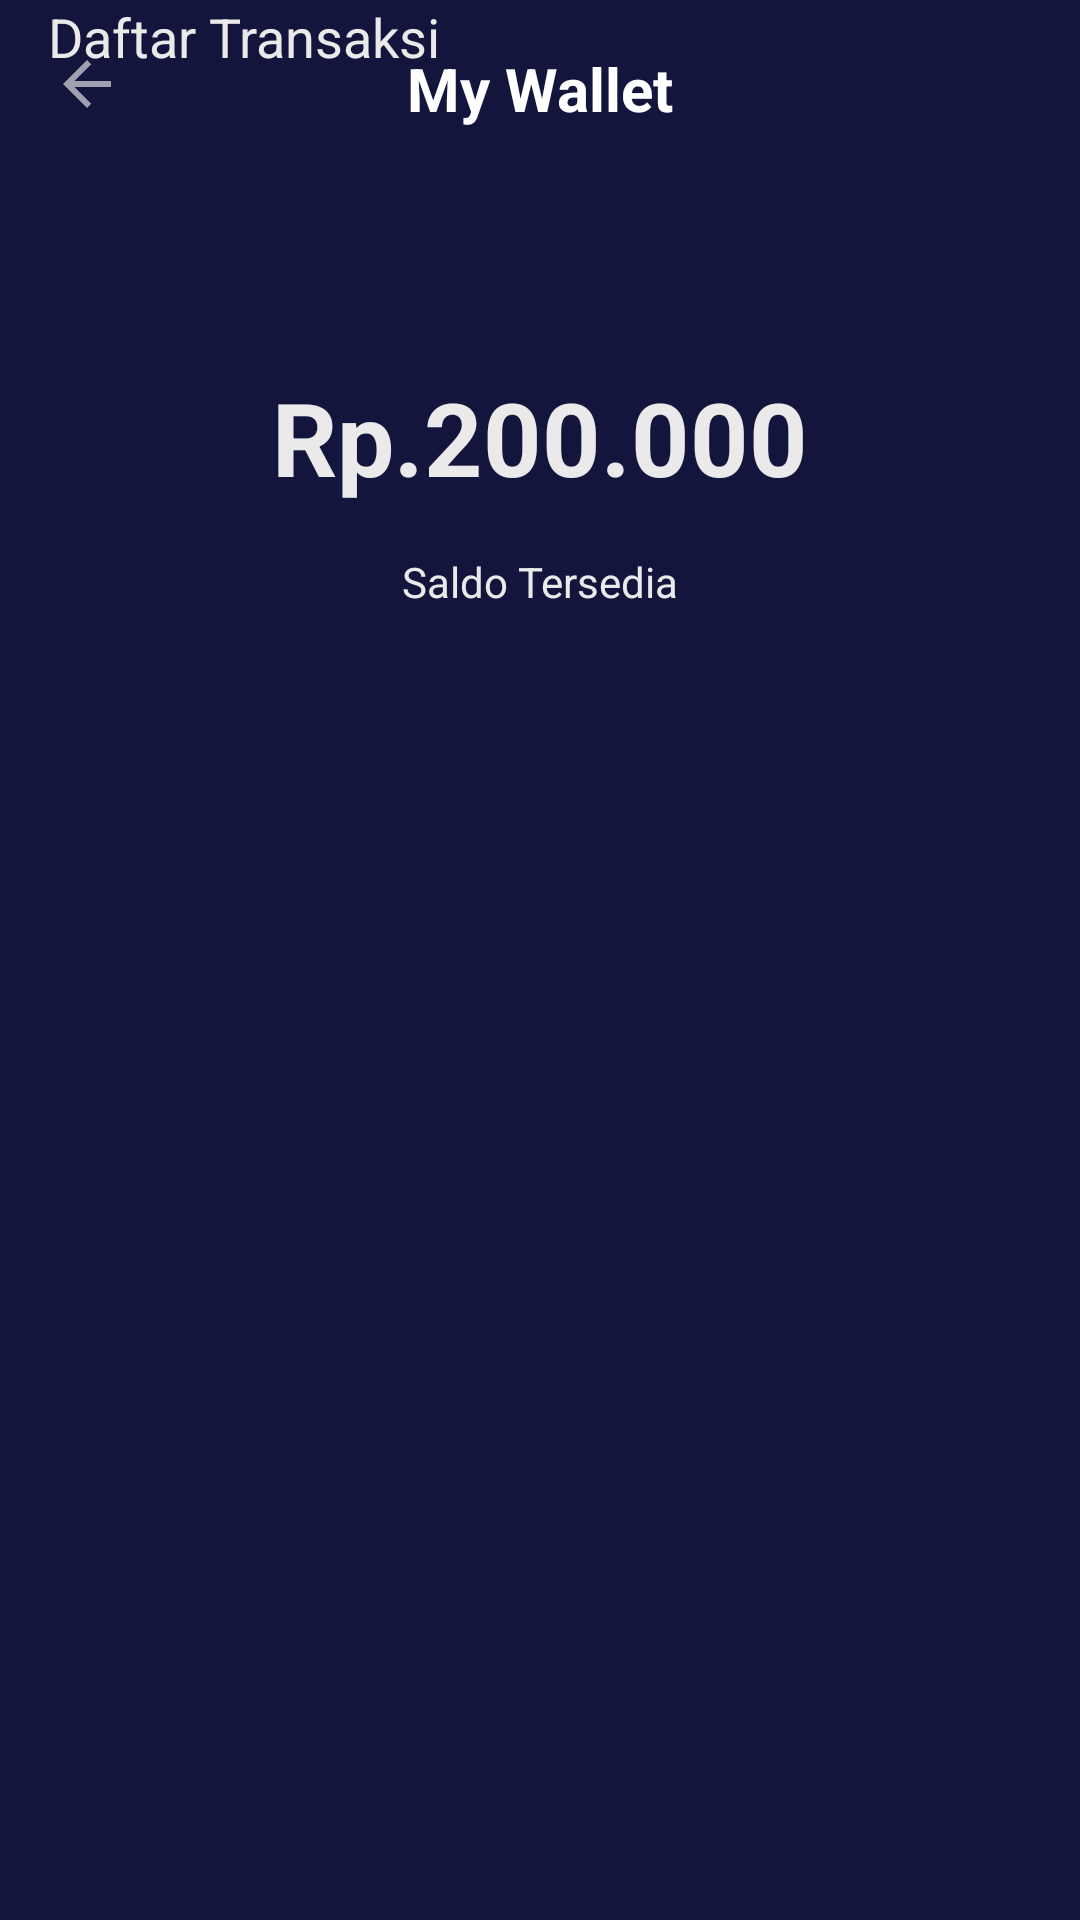

Icon click points for this 1080 x 1920 phone screenshot, format point (x, y):
arrow back: point (87, 84)
